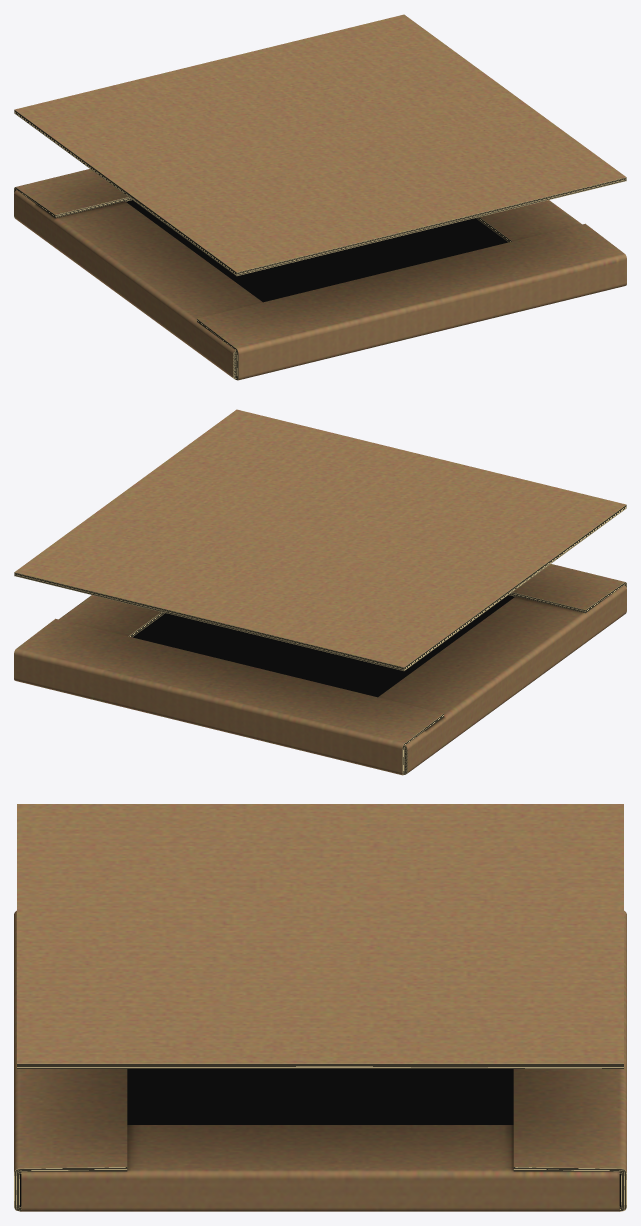
File: INPACKET1.glb
The picture shows the model from 3 angles, top to bottom: view 1: azimuth 30°, elevation 25°; view 2: azimuth 150°, elevation 25°; view 3: azimuth 270°, elevation 25°; orthographic projection. The views are drawn at different scales.
Parts seen in each view (by area): view 1: PARA_ARTIOS_ARD_D2-node; view 2: PARA_ARTIOS_ARD_D2-node; view 3: PARA_ARTIOS_ARD_D2-node.
Boxes of the visible parts, x1,y1,x2,y2 form: PARA_ARTIOS_ARD_D2-node: (14,14,626,380); PARA_ARTIOS_ARD_D2-node: (14,409,626,775); PARA_ARTIOS_ARD_D2-node: (14,804,626,1211).
Bounding box in the file's own units: 0.8419 × 0.2227 × 0.8319.
3 materials, 3 textured.
